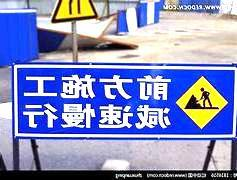sign: (13, 64, 235, 138)
